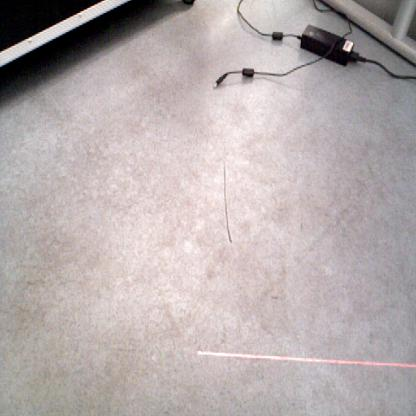mark: (222, 158, 233, 244), (271, 294, 280, 301), (300, 221, 304, 232)
